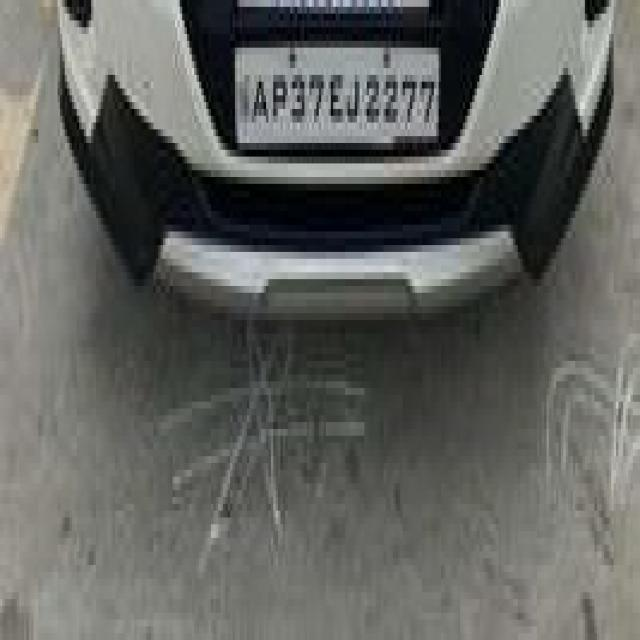Plate: (234, 42, 437, 144)
